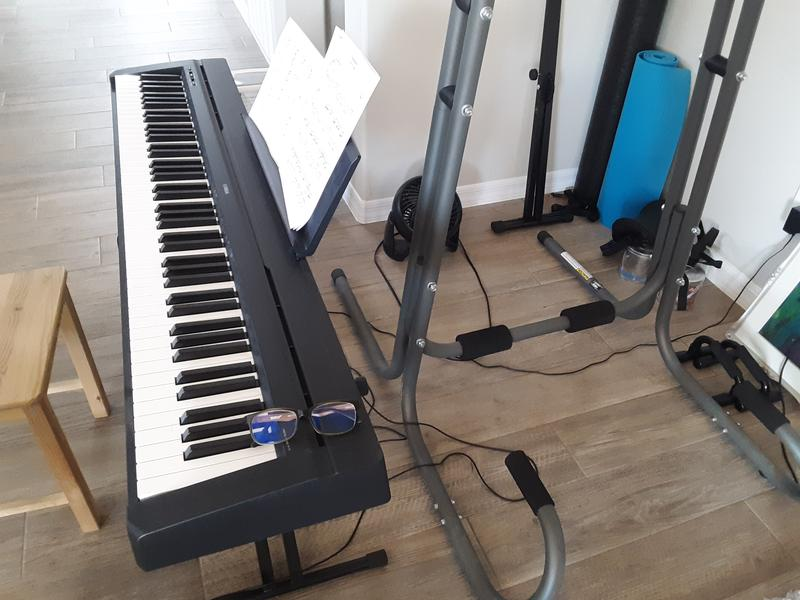glasses: (244, 399, 358, 448)
